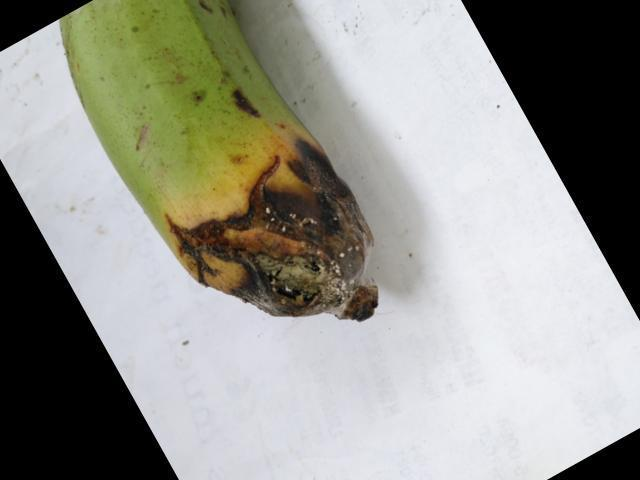rotten: (166, 151, 394, 340)
